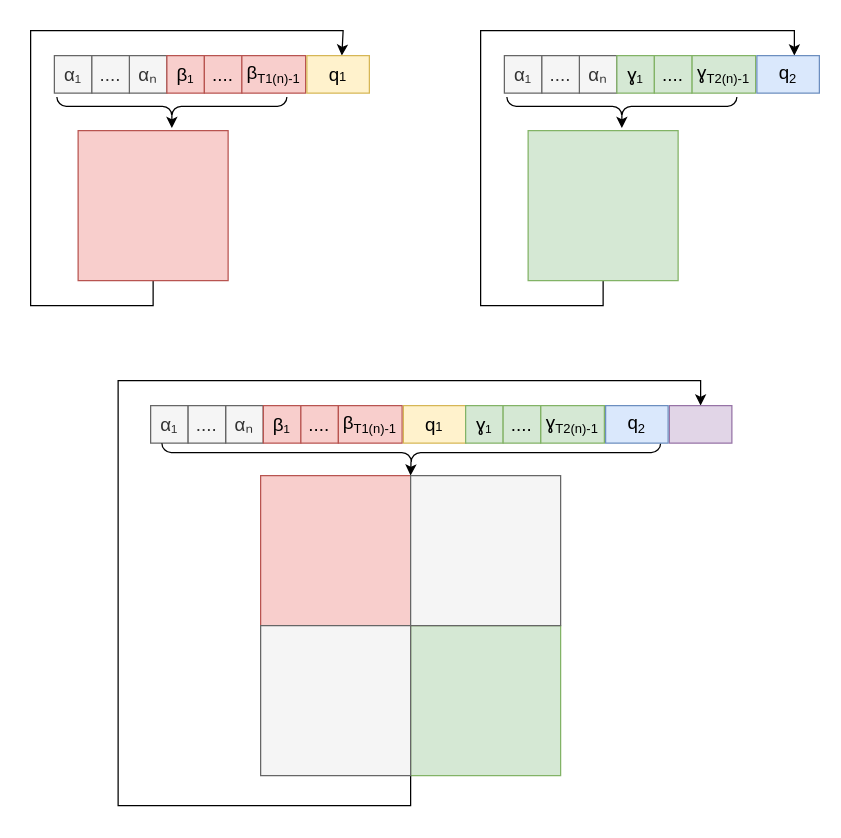
Image size: 841x838. Some labels were removed from this diagram. The shapes that lost their labels are listed below. From the top down, each one's centre as x and y in pixels, then its label:
pixel 152 205: TF 1
pixel 602 205: TF 2
pixel 700 423: q 1 ∨q 2
pixel 485 550: TF
